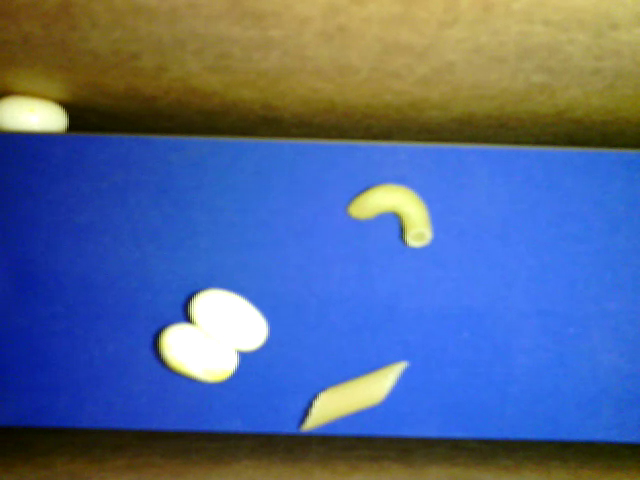elbow: (347, 182, 433, 248)
penne: (299, 359, 410, 431)
